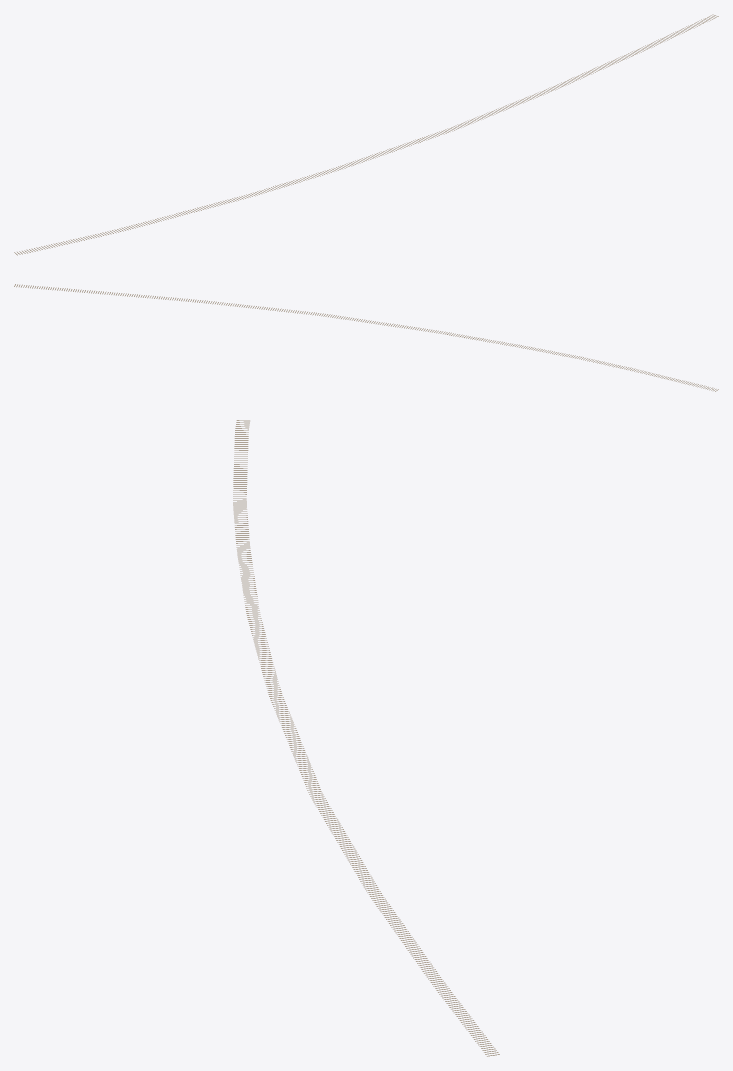
File: c_1627_17828_rail_sleeper.glb
3 views of the same model, one above another, from view 1: azimuth 30°, elevation 25°; view 2: azimuth 150°, elevation 25°; view 3: azimuth 270°, elevation 25° (orthographic). The views are drawn at different scales.
Visible parts, largest first — view 1: geometry_0; view 2: geometry_0; view 3: geometry_0.
Boxes of the visible parts, x1,y1,x2,y2 form: geometry_0: (14,14,718,255); geometry_0: (14,284,718,391); geometry_0: (233,420,499,1056).
Bounding box in the file's own units: 256 × 2.01 × 46.23.
